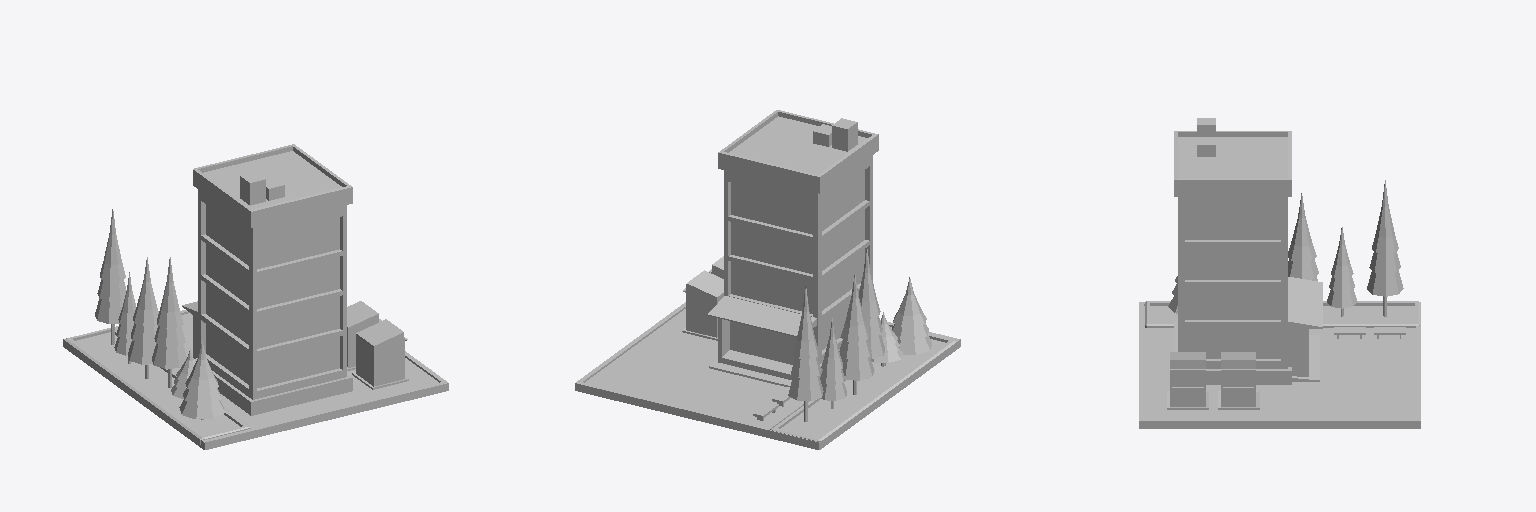
Rendered from building2.obj.
3 views of the same model, side by side, from view 1: azimuth 30°, elevation 25°; view 2: azimuth 150°, elevation 25°; view 3: azimuth 270°, elevation 25° (orthographic).
Parts seen in each view (by area): view 1: House_3, Floor_4_3, Cube_7_2, Muff, Firtree_2_2, Firtree_4_2, Firtree_47_2, Firtree_1_2, Muff_1, Firtree_2_3; view 2: House_3, Floor_4_3, Cube_7_2, Firtree_4_2, Firtree_1_2, Muff_1, Firtree_47_2, Firtree_2_2, Firtree_2_3, Firtree_3_2; view 3: House_3, Floor_4_3, Cube_7_2, Firtree_4_2, Muff, Muff_1, Firtree_1_2, Firtree_2_3.
Part boxes in pixels (bbox=[...]): House_3: bbox=[182, 144, 352, 415]; Floor_4_3: bbox=[63, 310, 448, 449]; Cube_7_2: bbox=[64, 328, 250, 444]; Muff: bbox=[352, 319, 408, 389]; Firtree_2_2: bbox=[152, 257, 186, 387]; Firtree_4_2: bbox=[95, 209, 126, 344]; Firtree_47_2: bbox=[179, 342, 224, 419]; Firtree_1_2: bbox=[128, 257, 158, 378]; Muff_1: bbox=[347, 301, 381, 370]; Firtree_2_3: bbox=[114, 272, 135, 363]; House_3: bbox=[707, 110, 878, 386]; Floor_4_3: bbox=[575, 302, 960, 449]; Cube_7_2: bbox=[770, 334, 956, 446]; Firtree_4_2: bbox=[788, 286, 823, 421]; Firtree_1_2: bbox=[839, 274, 874, 394]; Muff_1: bbox=[682, 270, 723, 340]; Firtree_47_2: bbox=[892, 277, 931, 354]; Firtree_2_2: bbox=[859, 249, 884, 378]; Firtree_2_3: bbox=[820, 318, 846, 408]; Firtree_3_2: bbox=[871, 312, 902, 366]; House_3: bbox=[1174, 118, 1322, 384]; Floor_4_3: bbox=[1139, 302, 1420, 428]; Cube_7_2: bbox=[1145, 301, 1419, 327]; Firtree_4_2: bbox=[1367, 180, 1403, 316]; Muff: bbox=[1167, 352, 1208, 409]; Muff_1: bbox=[1218, 352, 1259, 409]; Firtree_1_2: bbox=[1288, 193, 1318, 280]; Firtree_2_3: bbox=[1327, 227, 1357, 316].
Bounding box in the file's own units: 1.67 × 1.5 × 1.67.